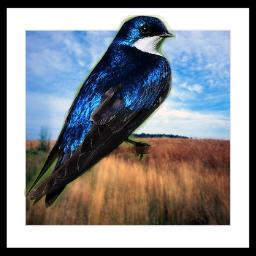Swallow: (24, 15, 176, 209)
